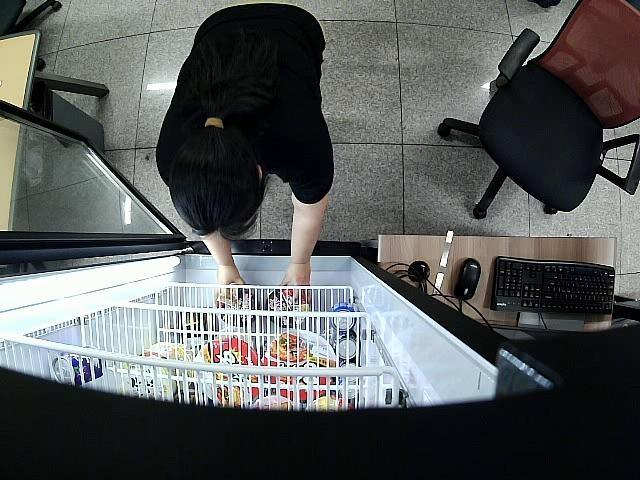07_buldak_L: (217, 284, 260, 326), (266, 287, 308, 329)
